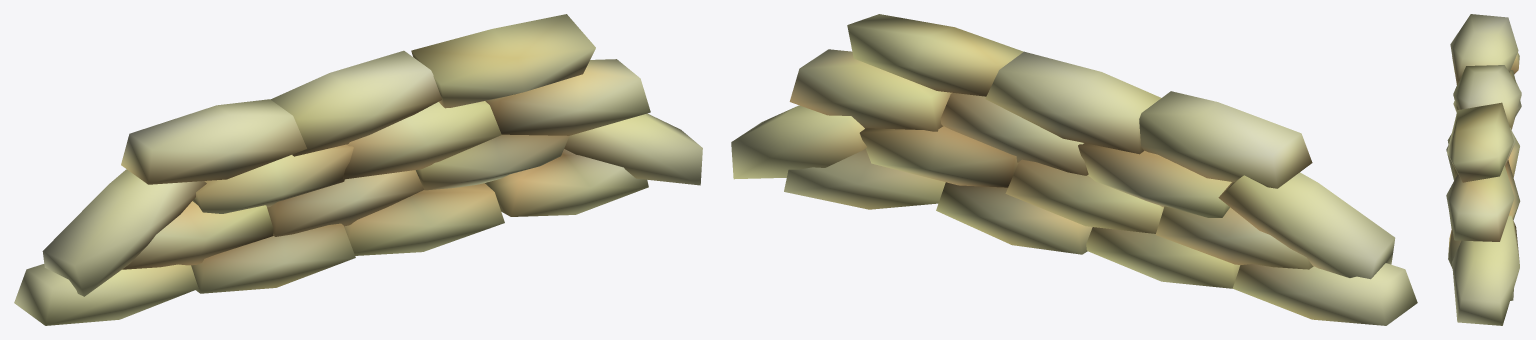
The model's file is sandbags_01_straight_c.dae.
3 renders of one model, left to right at view 1: azimuth 30°, elevation 25°; view 2: azimuth 150°, elevation 25°; view 3: azimuth 270°, elevation 25°, orthographic. The views are drawn at different scales.
Parts seen in each view (by area): view 1: sandbagsSC8; view 2: sandbagsSC8; view 3: sandbagsSC8.
Part boxes in pixels (x1,y1,x2,y2): sandbagsSC8: (14, 14, 702, 325); sandbagsSC8: (731, 14, 1417, 325); sandbagsSC8: (1446, 14, 1521, 325).
Size of what is drawn, in the model's own units: 2.94 by 0.4003 by 0.7837.
